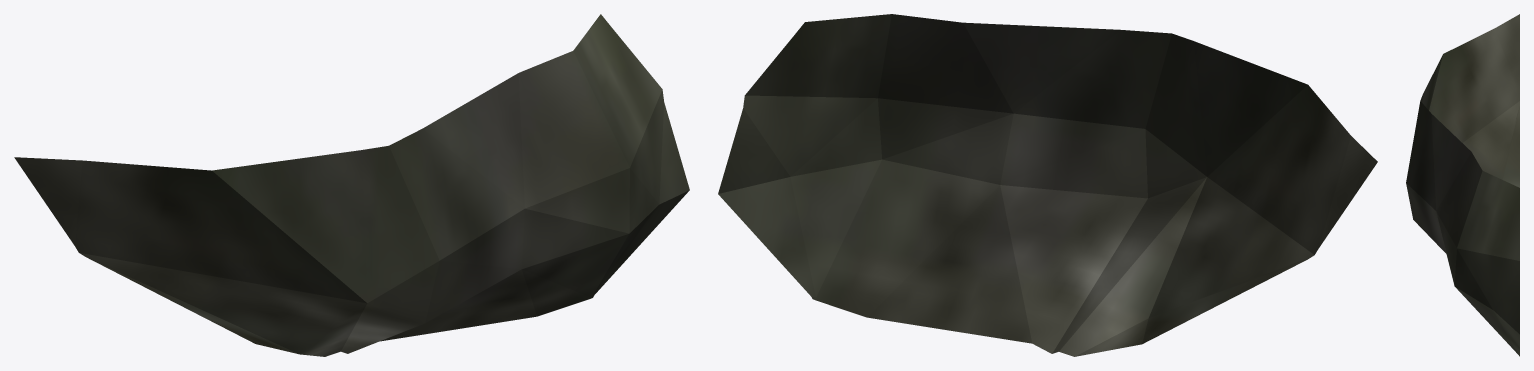
The picture shows the model from 3 angles, left to right: view 1: azimuth 30°, elevation 25°; view 2: azimuth 150°, elevation 25°; view 3: azimuth 270°, elevation 25°; orthographic projection. The views are drawn at different scales.
Bounding box in the file's own units: 0.8839 × 0.3588 × 0.2124.
1 material, 1 textured.
